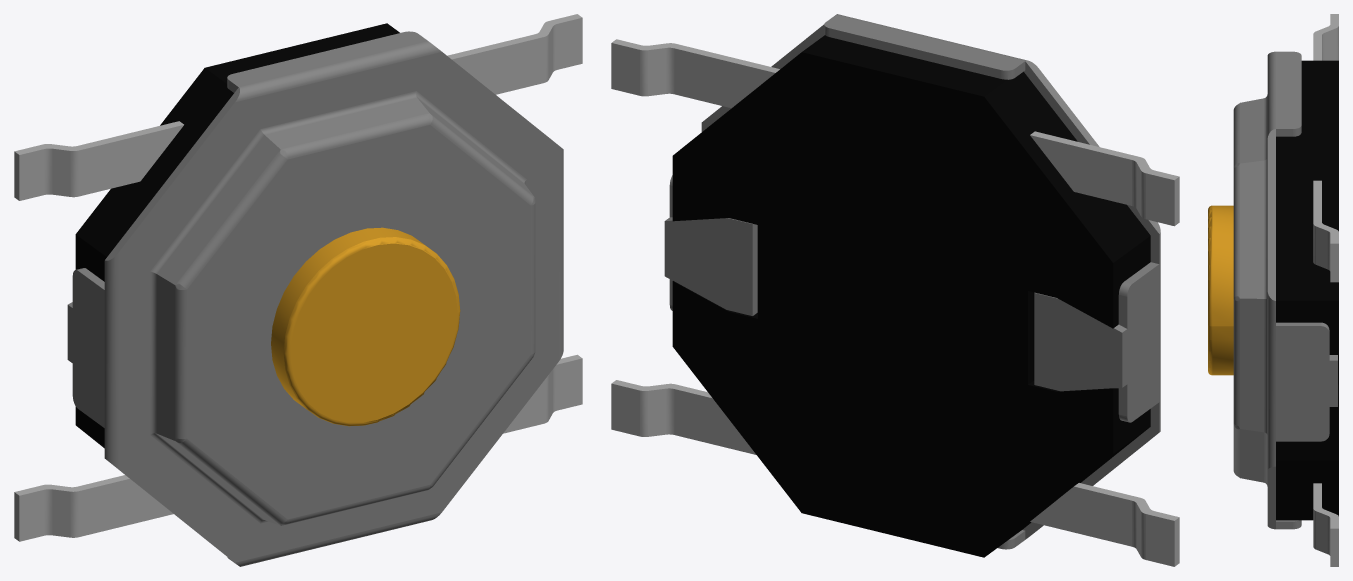
The model's file is Button_Switch_SMD_SW_SPST_TL3342.glb.
3 renders of one model, left to right at view 1: azimuth 30°, elevation 25°; view 2: azimuth 150°, elevation 25°; view 3: azimuth 270°, elevation 25°, orthographic. The views are drawn at different scales.
Bounding box in the file's own units: 6.4 × 5.2 × 1.54.
